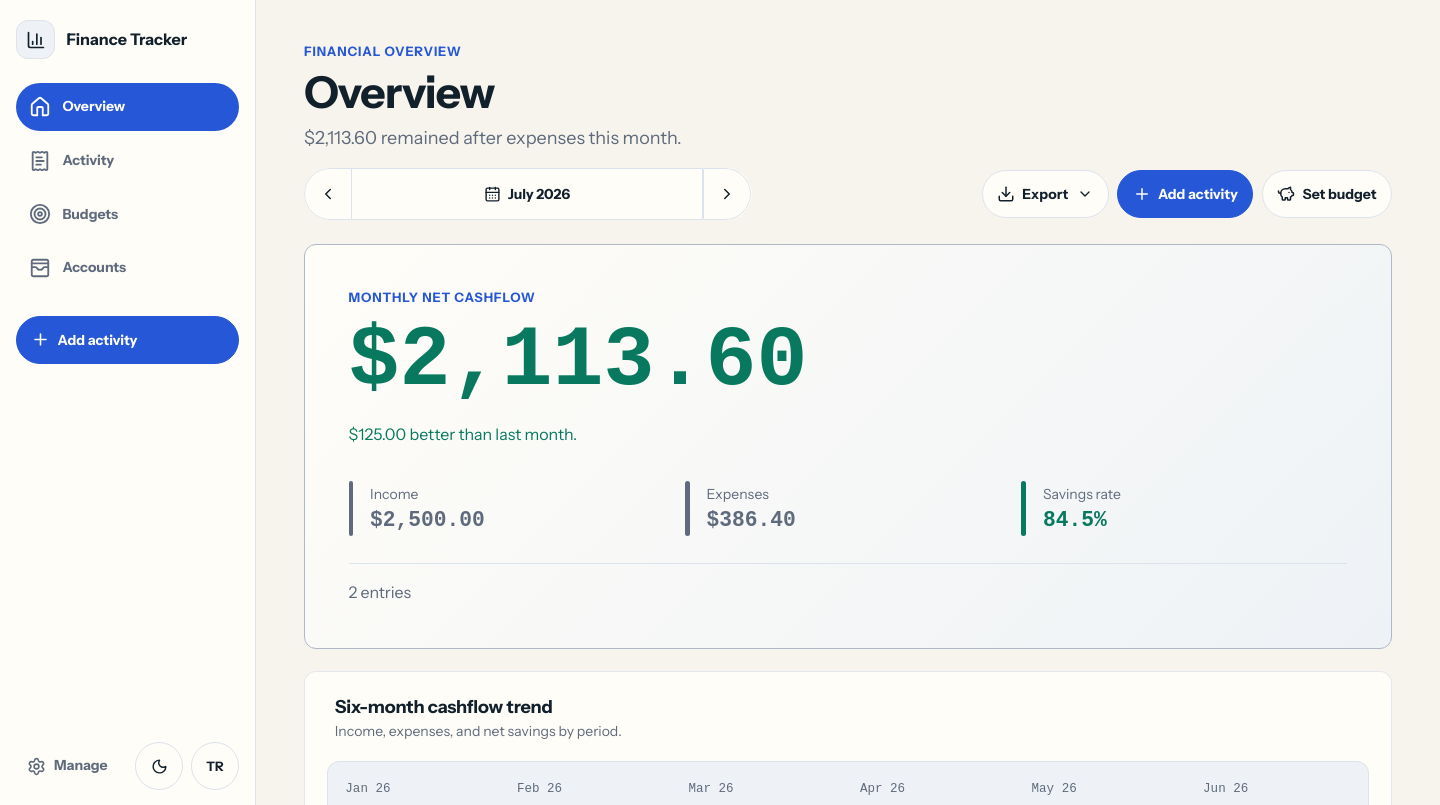
Test: app composition › keeps destination concepts stable in Turkish
expect the heading "Overview" is shown: met, box x1=304 y1=65 x2=494 y2=119
Click the button with aria-label "Switch to Turkish": (215, 766) x1=191 y1=742 x2=239 y2=790
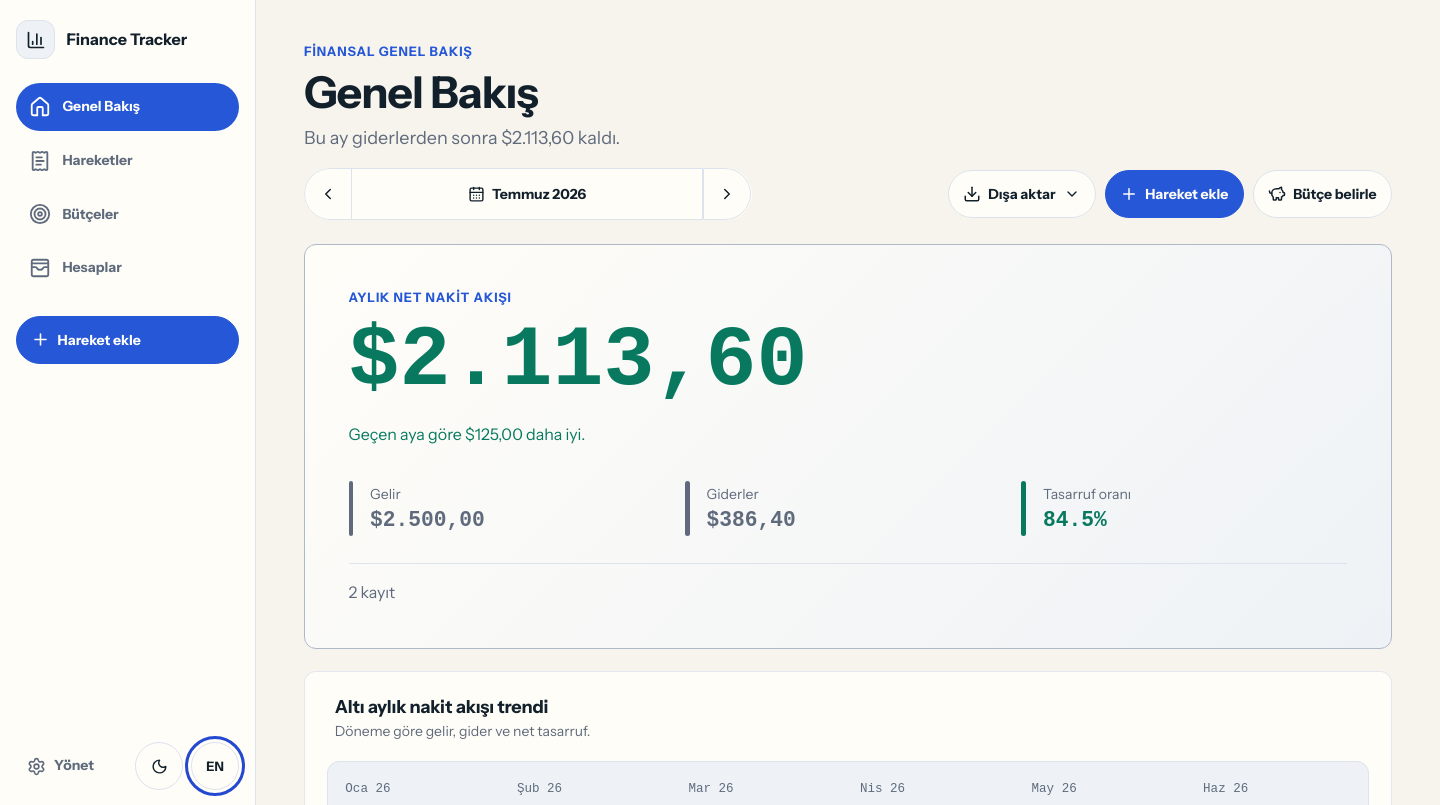
expect the heading "Genel Bakış" is shown: met, box x1=304 y1=65 x2=538 y2=119
expect the link "Hareketler" is shown: met, box x1=29 y1=150 x2=132 y2=172
expect the link "Bütçeler" is shown: met, box x1=29 y1=203 x2=119 y2=225
